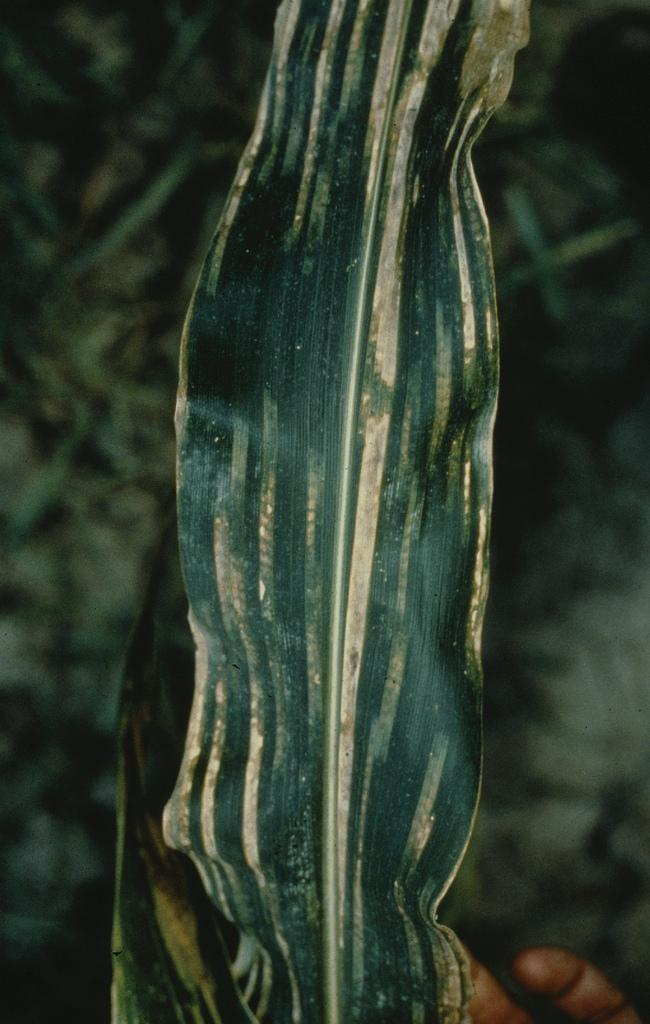Corn leaf blight: (181, 7, 527, 1024)
